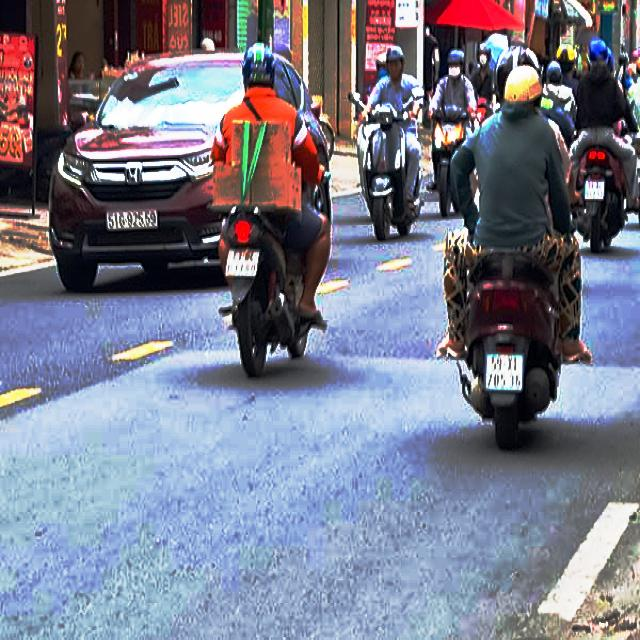license_plate: (487, 354, 524, 391), (108, 210, 159, 231)
